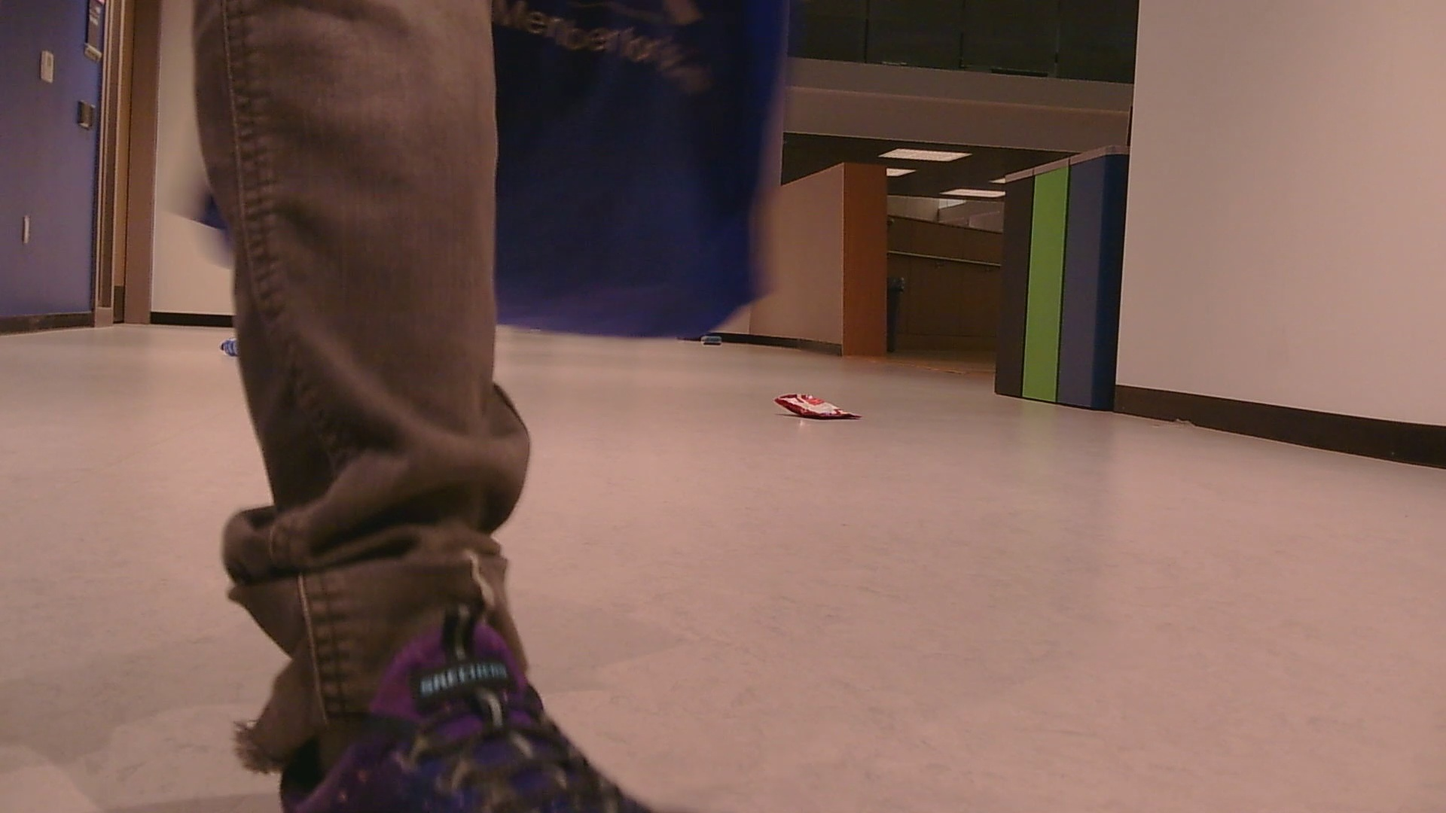carton: (768, 376, 868, 446)
